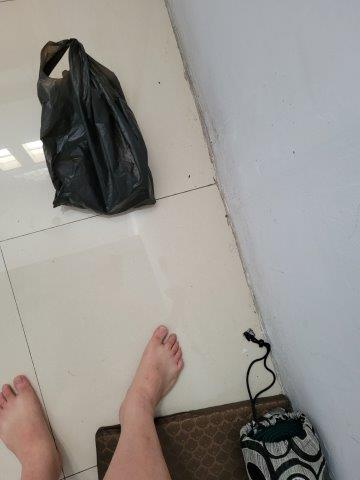plastik: (40, 35, 158, 216)
